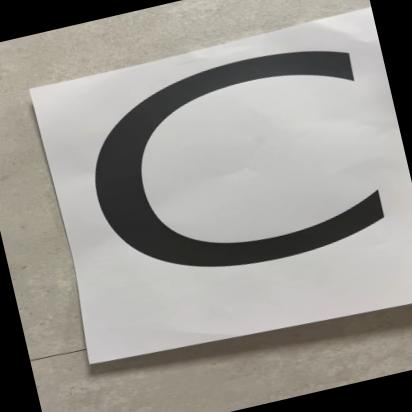seat: (21, 0, 412, 391)
